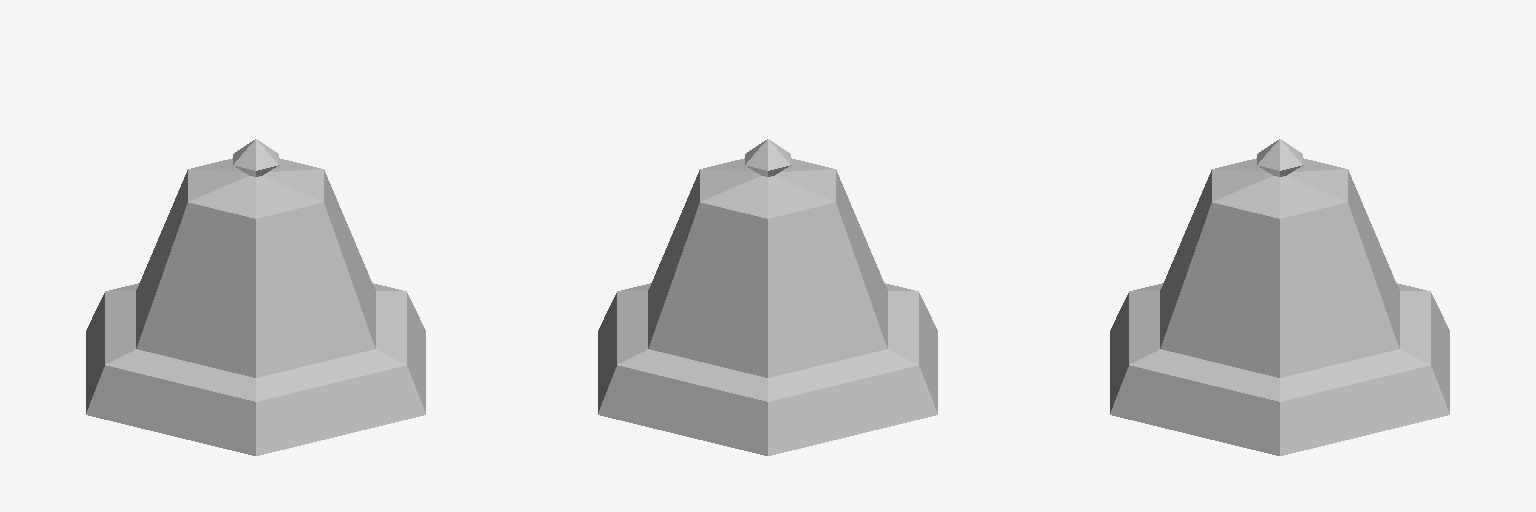
The model's file is RandomBell.obj.
3 renders of one model, left to right at view 1: azimuth 30°, elevation 25°; view 2: azimuth 150°, elevation 25°; view 3: azimuth 270°, elevation 25°, orthographic.
Parts seen in each view (by area): view 1: bell_Plane; view 2: bell_Plane; view 3: bell_Plane.
Boxes of the visible parts, <box> form: bell_Plane: <box>86,139,425,455</box>; bell_Plane: <box>598,139,937,455</box>; bell_Plane: <box>1110,139,1449,455</box>.
Size of the model in its own units: 0.5528 by 0.3637 by 0.4787.